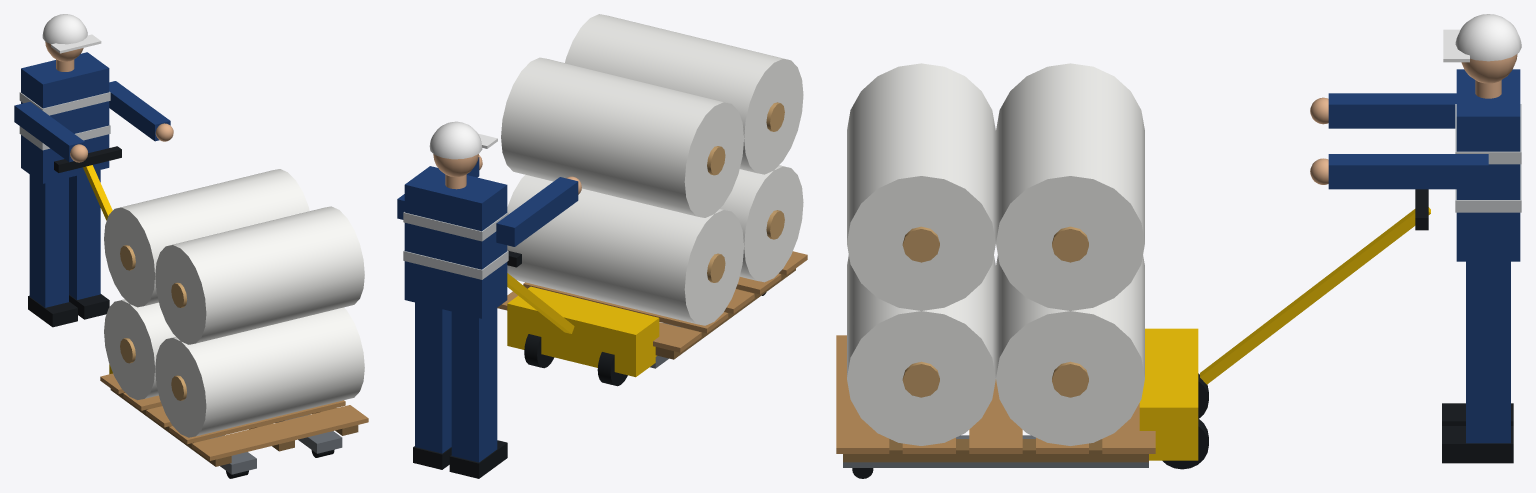
Rendered from Pallet jack worker.glb.
3 views of the same model, side by side, from view 1: azimuth 30°, elevation 25°; view 2: azimuth 150°, elevation 25°; view 3: azimuth 270°, elevation 25° (orthographic). The views are drawn at different scales.
Parts seen in each view (by area): view 1: Asset; view 2: Asset; view 3: Asset.
Boxes of the visible parts, <box> form: Asset: <box>14,14,368,478</box>; Asset: <box>397,14,807,478</box>; Asset: <box>836,14,1521,478</box>.
Size of the model in its own units: 1.04 by 1.77 by 2.58.
